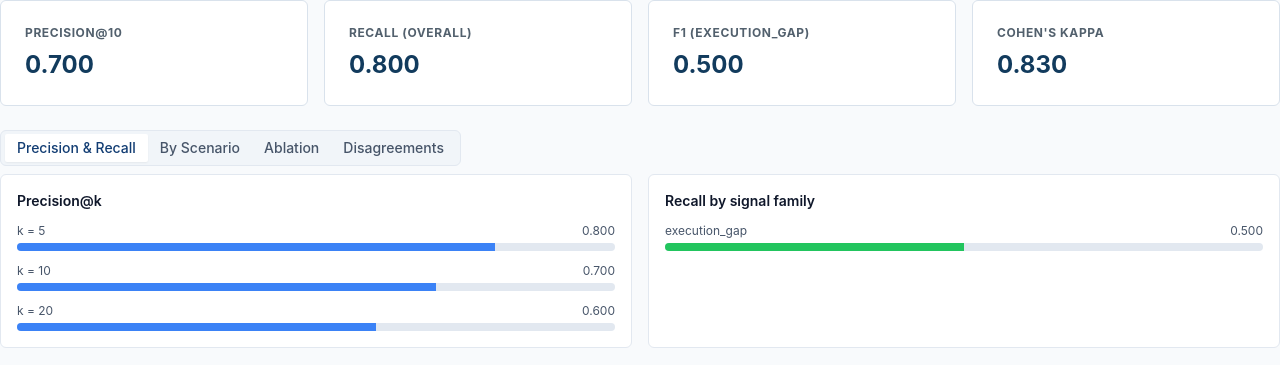
Test: ValidationPage › ablation tab lists contributions sorted descending
Click the tab "Ablation".
click(292, 148)  # box [252,134,331,162]
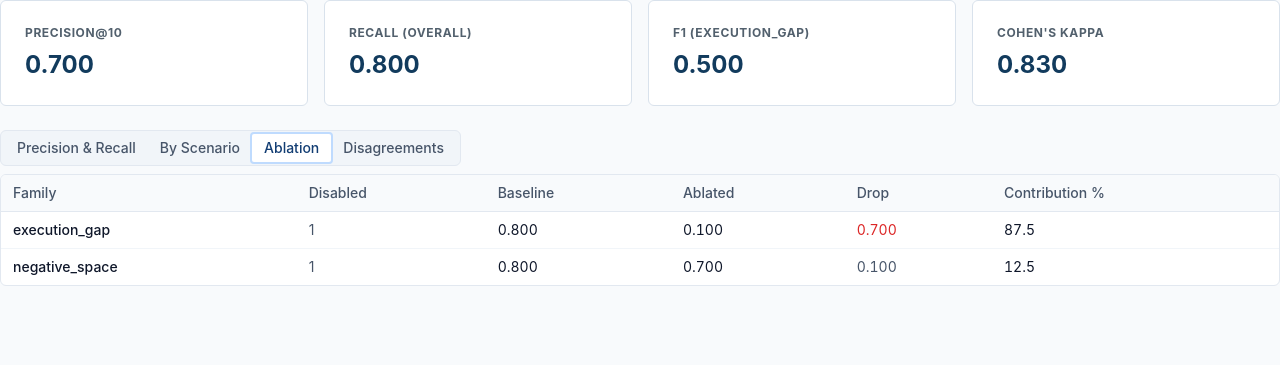
Expected: the row "execution_gap 1 0.800 0.100 0.700 87.5" is shown, [1,212,1279,248]
Expected: the row "negative_space 1 0.800 0.700 0.100 12.5" is shown, [1,248,1279,285]
